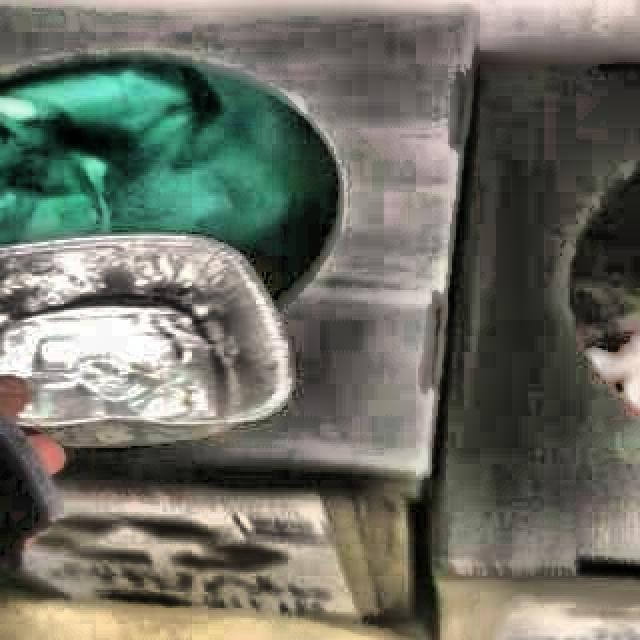metal: (0, 234, 291, 448)
